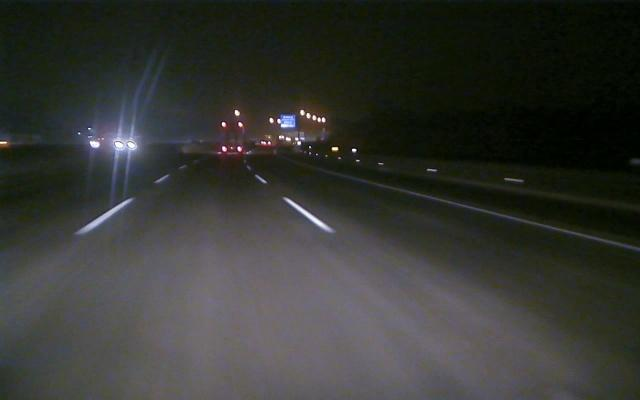lane: (355, 179, 638, 252), (74, 176, 166, 236), (256, 175, 337, 233)
